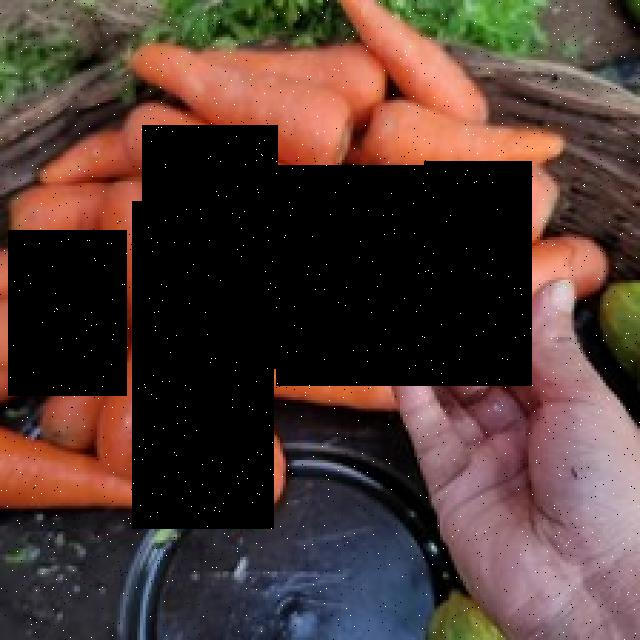Carrot: (276, 162, 532, 386), (133, 202, 274, 530), (123, 20, 424, 165), (142, 125, 278, 369), (9, 230, 128, 396)
